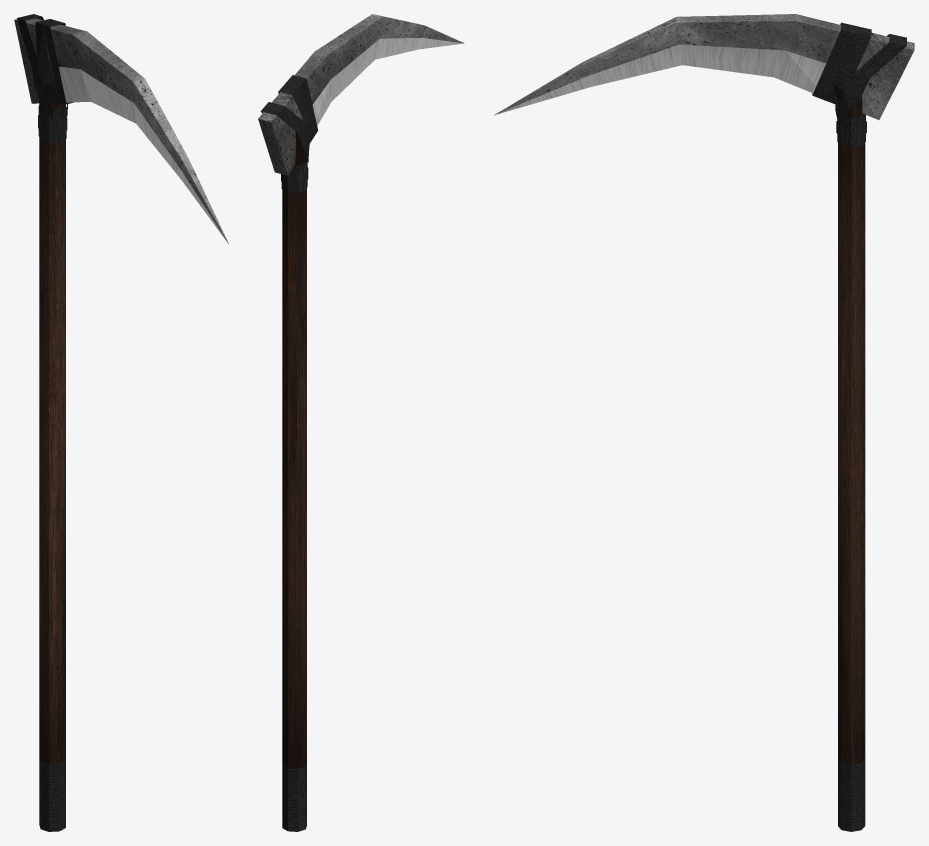
Rendered from swear1.dae.
3 renders of one model, left to right at view 1: azimuth 30°, elevation 25°; view 2: azimuth 150°, elevation 25°; view 3: azimuth 270°, elevation 25°, orthographic. The views are drawn at different scales.
Visible parts, largest first — view 1: scythe; view 2: scythe; view 3: scythe.
Boxes of the visible parts, x1,y1,x2,y2 form: scythe: (14,14,228,831); scythe: (258,14,464,831); scythe: (494,14,914,831).
Bounding box in the file's own units: 0.0545 × 0.7402 × 1.57.
4 materials, 4 textured.
